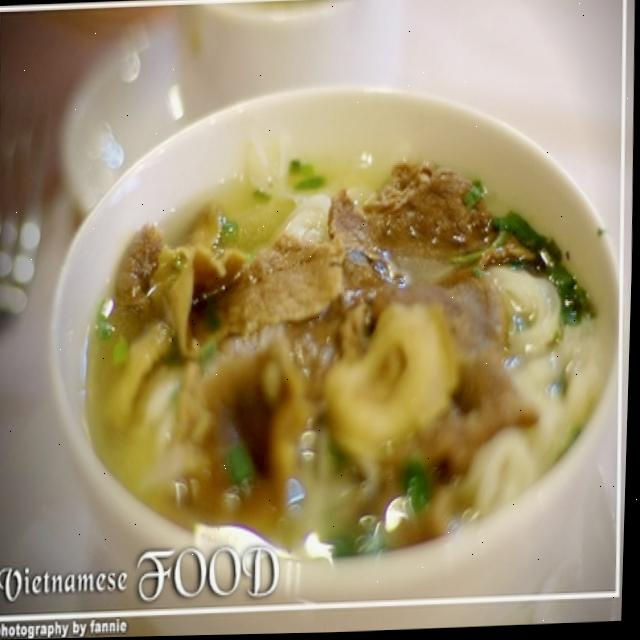面条主食: (28, 66, 615, 587)
